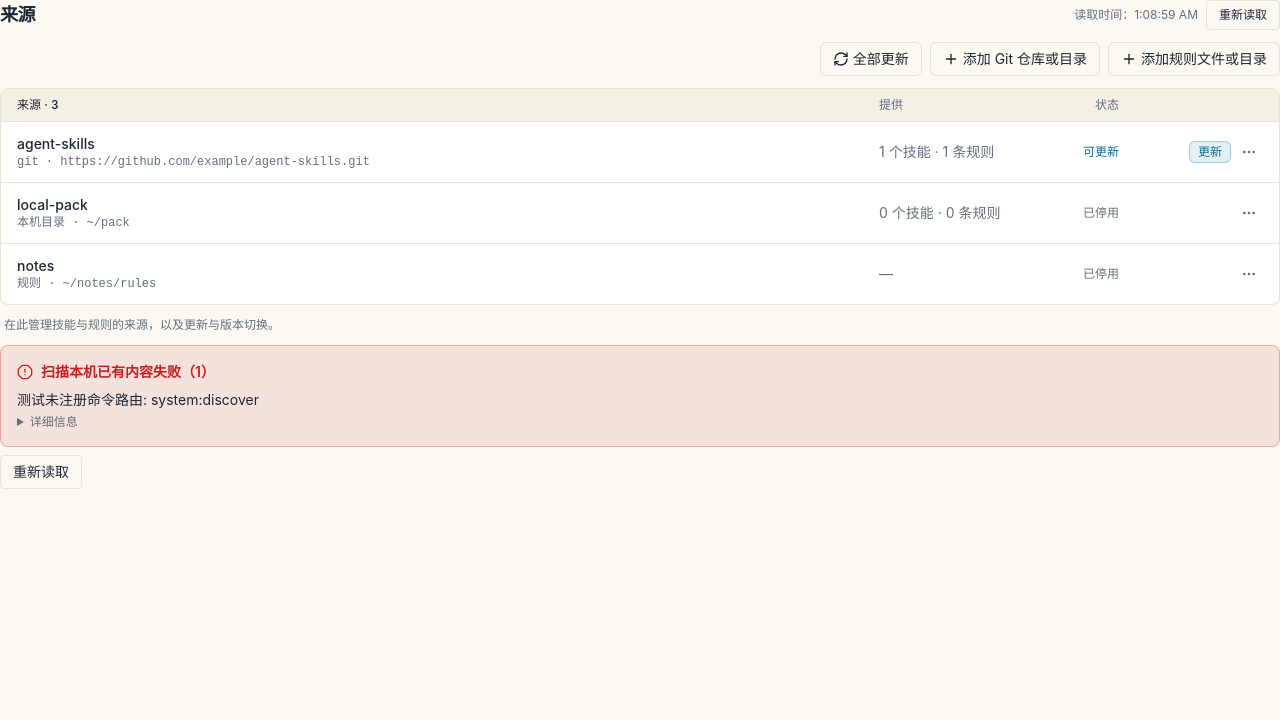
Test: 来源页 › 添加：git 仓库或目录打开添加来源表单，规则文件或目录打开添加规则来源
The width and height of the screenshot is (1280, 720).
Click the button with test id "source-add-collection": {"x": 1015, "y": 59} [930, 42, 1100, 76]
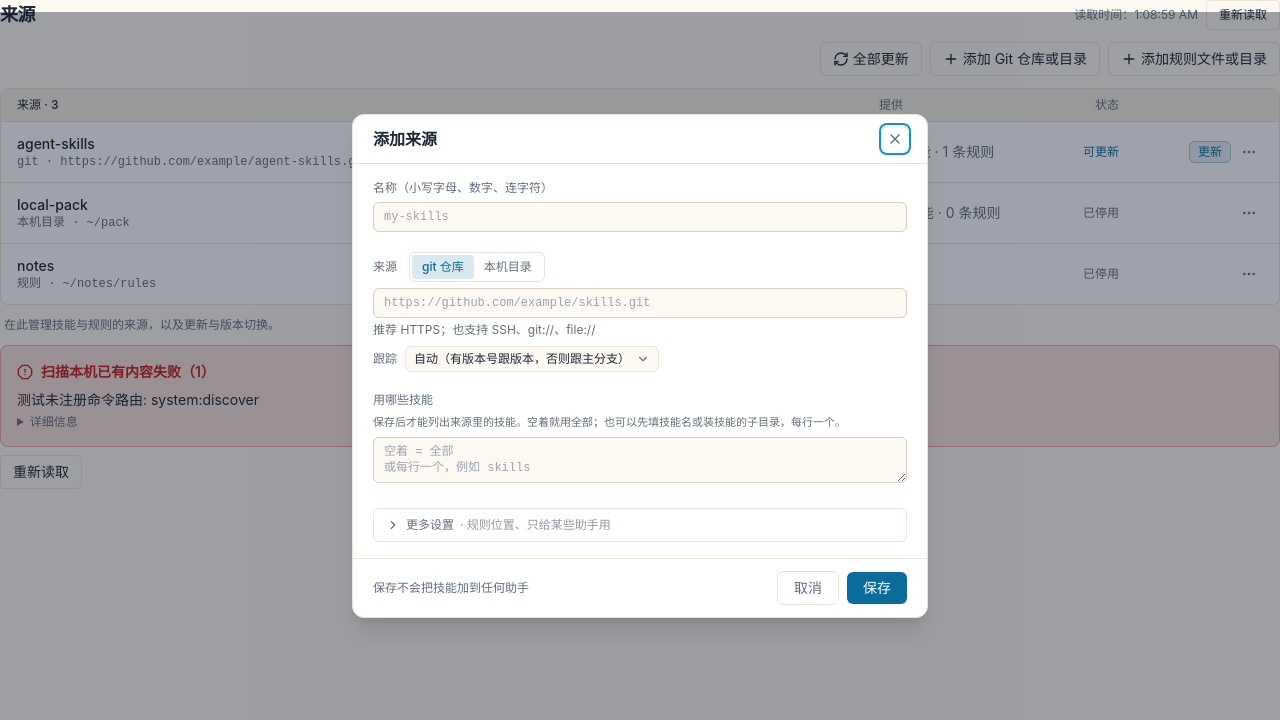
Expected: the dialog "添加来源" is shown, [352, 114, 928, 618]
Click the button "取消": {"x": 808, "y": 588} [777, 571, 839, 605]
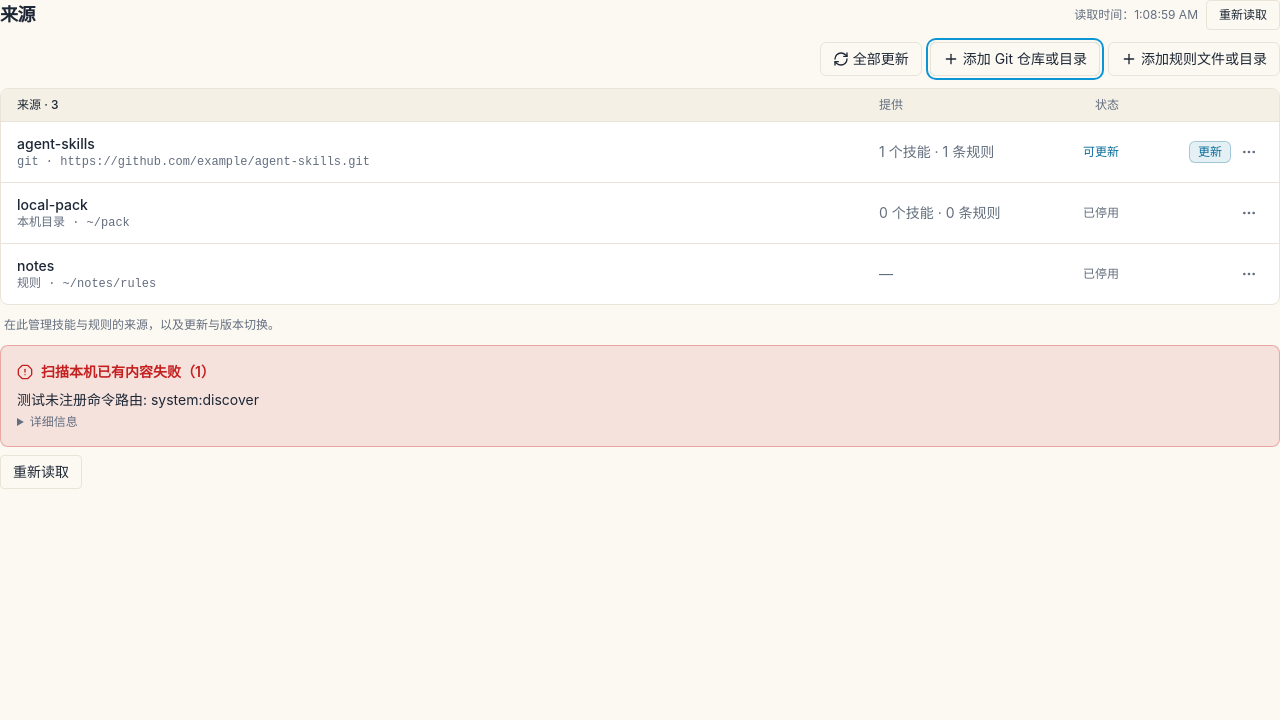
Click the button with test id "source-add-rule": {"x": 1194, "y": 59} [1108, 42, 1279, 76]
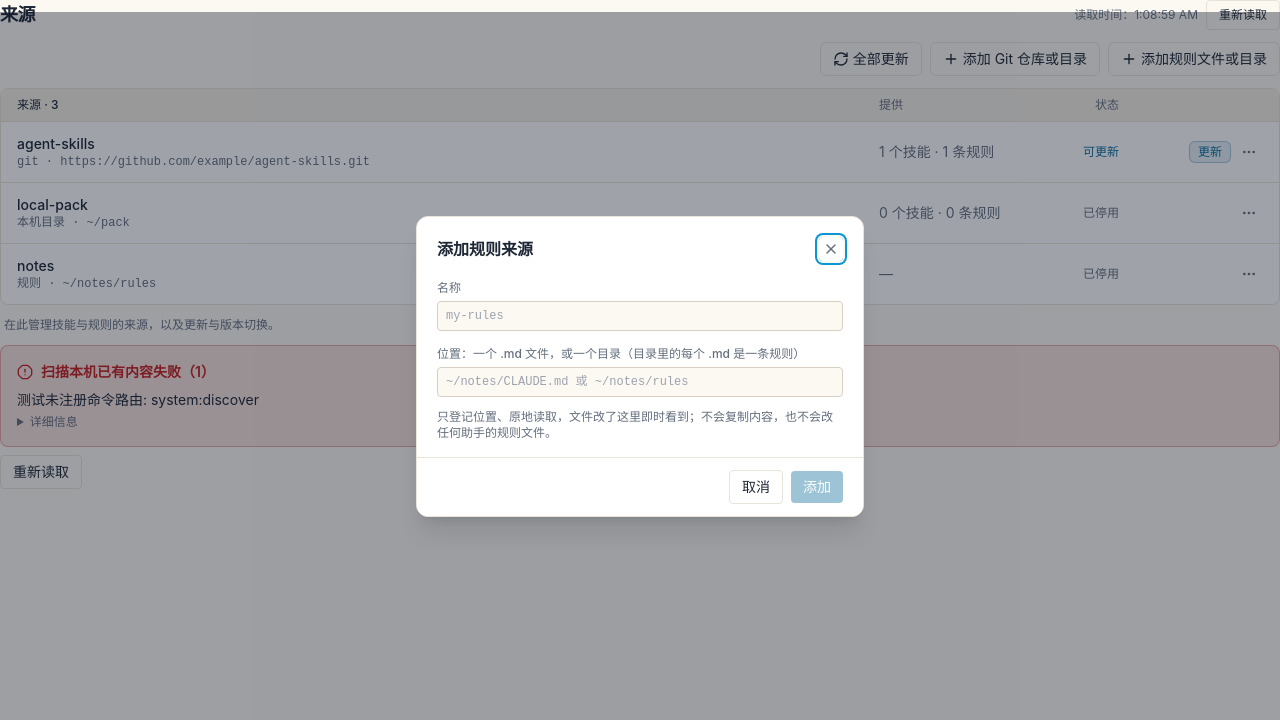
Expected: the dialog "添加规则来源" is shown, [416, 216, 864, 516]
